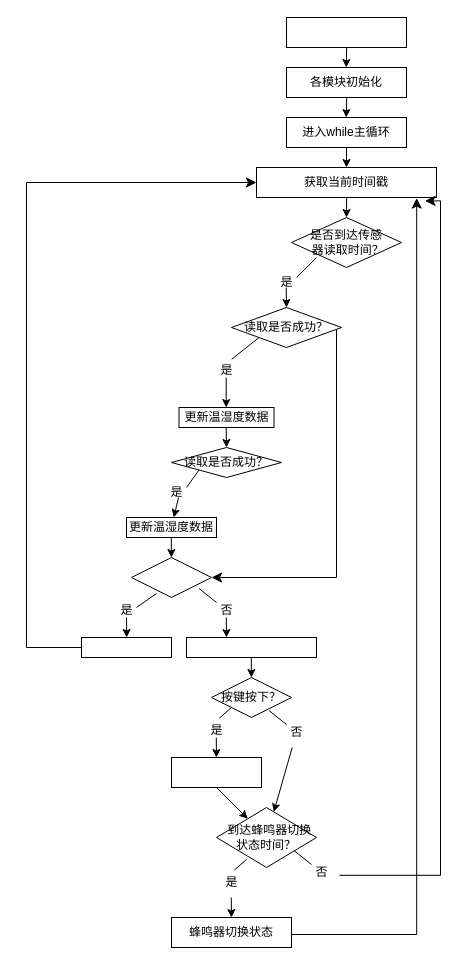
Image size: 468x965. Some labels were removed from this diagram. Here are the shapes that lost their labels. From the top down, the centre of each, then its label:
(x=346, y=32): 系统开始
(x=171, y=577): 温度<40℃？
(x=126, y=647): 正常显示温湿度
(x=251, y=647): 显示“温度过高 请加冰”
(x=216, y=772): 舵机旋转70°，1s后回到0°
